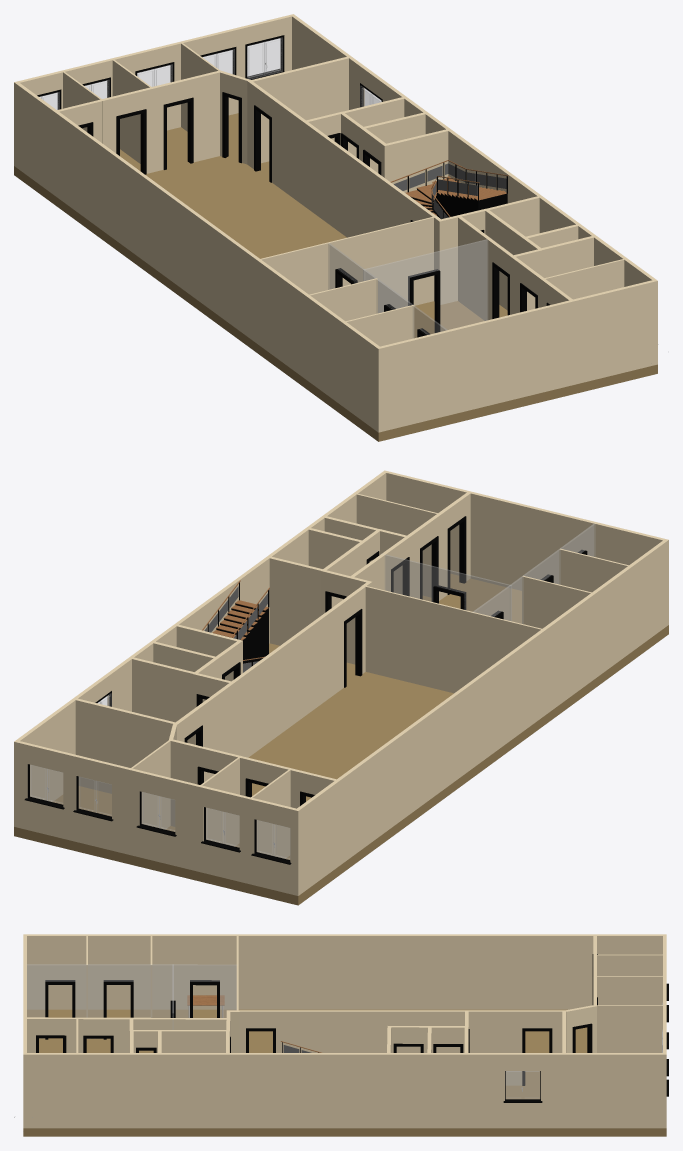
File: Floor4.gltf
3 views of the same model, one above another, from view 1: azimuth 30°, elevation 25°; view 2: azimuth 150°, elevation 25°; view 3: azimuth 270°, elevation 25° (orthographic). The views are drawn at different scales.
Visible parts, largest first — view 1: Wall, Slab, Wall.025, Wall.003, Wall.011, Wall.001, Wall.007, Wall.002, Stair, Wall.009, Wall.010, Wall.023 (+13 smaller); view 2: Wall, Slab, Wall.025, Wall.003, Wall.009, Wall.011, Wall.002, Wall.001, Wall.026, Wall.007, Stair, Wall.023 (+10 smaller); view 3: Wall, Wall.025, Slab, Wall.011, Wall.001, Wall.005, Wall.015, Wall.009, Wall.006, Wall.007, Wall.026, Wall.008 (+9 smaller).
Part boxes in pixels (<box>): Wall: <box>14,14,657,432</box>; Slab: <box>14,113,657,441</box>; Wall.025: <box>57,70,437,301</box>; Wall.003: <box>260,216,435,312</box>; Wall.011: <box>328,239,487,337</box>; Wall.001: <box>457,216,572,320</box>; Wall.007: <box>361,112,448,192</box>; Wall.002: <box>250,56,348,163</box>; Stair: <box>390,160,508,219</box>; Wall.009: <box>484,196,578,310</box>; Wall.010: <box>433,208,485,304</box>; Wall.023: <box>544,259,624,299</box>; Wall: <box>14,470,668,895</box>; Slab: <box>14,574,668,905</box>; Wall.025: <box>169,585,366,826</box>; Wall.003: <box>363,585,541,693</box>; Wall.009: <box>269,527,364,645</box>; Wall.011: <box>385,524,595,623</box>; Wall.002: <box>75,698,176,793</box>; Wall.001: <box>351,492,471,600</box>; Wall.026: <box>132,657,219,743</box>; Wall.007: <box>153,625,242,701</box>; Stair: <box>202,580,269,672</box>; Wall.023: <box>356,493,437,597</box>; Wall: <box>23,934,666,1128</box>; Wall.025: <box>235,935,596,1085</box>; Slab: <box>23,1009,666,1136</box>; Wall.011: <box>27,964,236,1038</box>; Wall.001: <box>23,1017,227,1052</box>; Wall.005: <box>594,1005,662,1052</box>; Wall.015: <box>593,976,662,1005</box>; Wall.009: <box>158,1030,229,1052</box>; Wall.006: <box>593,954,662,975</box>; Wall.007: <box>387,1026,431,1052</box>; Wall.026: <box>429,1026,468,1052</box>; Wall.008: <box>130,1030,161,1052</box>.
Size of the model in its own units: 9.7 by 3 by 21.73.
10 materials, 1 textured.
